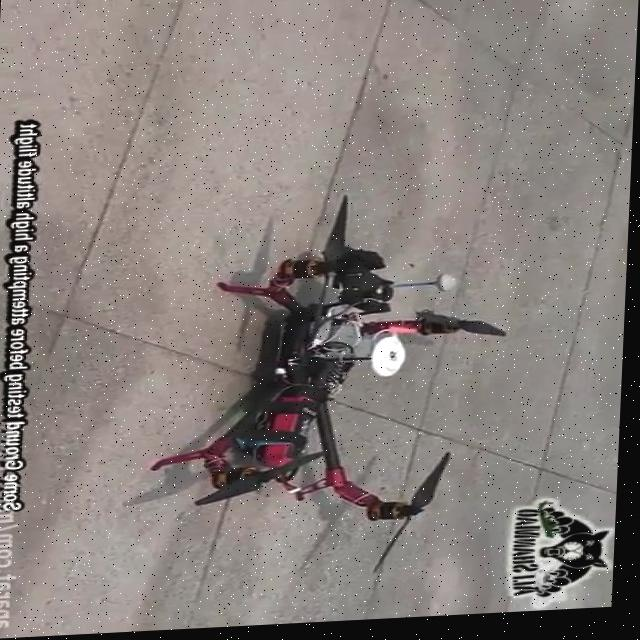drone: (143, 189, 521, 591)
